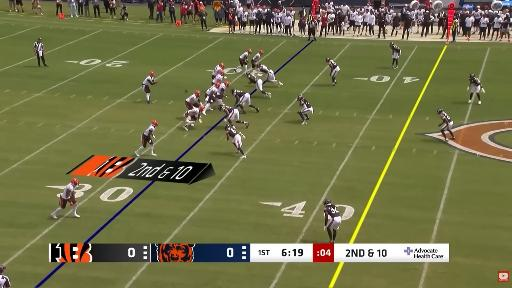Helmet: (71, 178, 79, 186), (151, 119, 158, 126), (245, 71, 252, 78), (218, 104, 225, 110), (198, 105, 205, 111), (195, 90, 201, 97), (324, 199, 331, 205), (149, 71, 155, 77), (225, 124, 231, 130), (437, 108, 443, 114), (219, 70, 225, 76), (255, 62, 261, 67), (219, 63, 224, 69), (215, 83, 220, 88), (298, 95, 303, 100), (390, 42, 394, 47), (224, 82, 229, 86), (470, 74, 475, 78), (231, 89, 235, 94), (259, 50, 263, 54), (246, 71, 250, 75), (326, 58, 330, 62), (248, 49, 251, 53)
Jersey: (324, 204, 339, 218), (61, 184, 74, 199), (217, 83, 226, 98), (234, 90, 246, 101), (440, 112, 451, 123), (144, 125, 155, 136), (187, 108, 200, 117), (227, 128, 238, 138), (206, 86, 217, 96), (186, 95, 199, 103), (212, 65, 222, 75), (239, 51, 249, 61), (223, 107, 234, 116), (143, 76, 154, 85), (300, 99, 311, 108), (469, 78, 481, 86), (391, 45, 401, 54), (213, 74, 223, 83), (248, 74, 257, 83), (328, 60, 337, 69), (260, 65, 270, 73), (252, 53, 261, 61)
Player: (51, 178, 79, 218), (135, 120, 158, 156), (324, 199, 341, 243), (218, 104, 249, 128), (225, 124, 246, 158), (231, 89, 259, 113), (246, 72, 271, 97), (257, 63, 282, 86), (438, 109, 455, 142), (203, 83, 220, 114), (467, 74, 484, 104), (142, 72, 158, 103), (184, 106, 204, 130), (298, 95, 313, 124), (326, 58, 340, 85), (185, 90, 202, 110), (236, 49, 251, 71), (390, 43, 401, 68), (216, 82, 229, 103), (252, 50, 263, 69), (212, 63, 224, 79), (212, 70, 224, 85)
